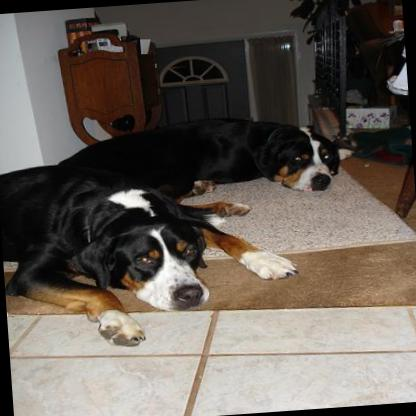Greater_Swiss_Mountain_dog: (0, 147, 302, 355), (56, 104, 350, 224)
